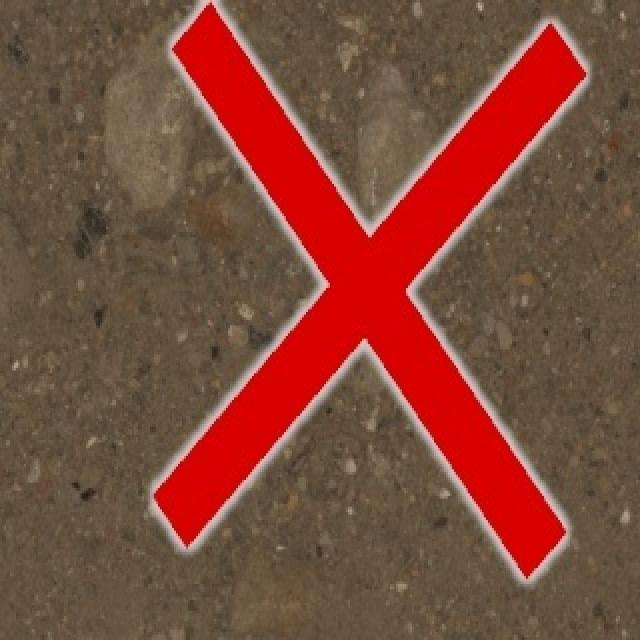x_marker: (153, 0, 585, 579)
